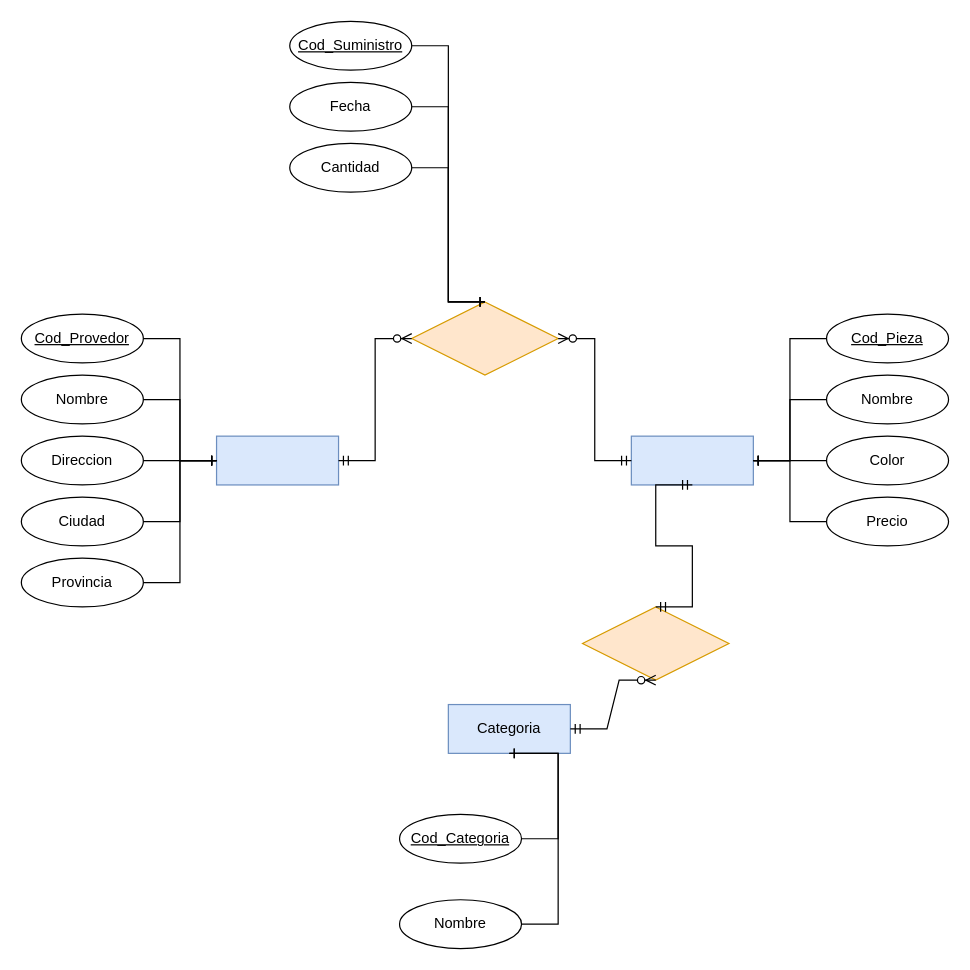
This 970x970 diagram has some shape labels left out. Here are the shapes that lost their labels. From the top down, the centre of each, then its label:
At [484,338]: "Suministro".
At [277,460]: "Provedor".
At [691,460]: "Pieza".
At [655,643]: "Pertenece".
